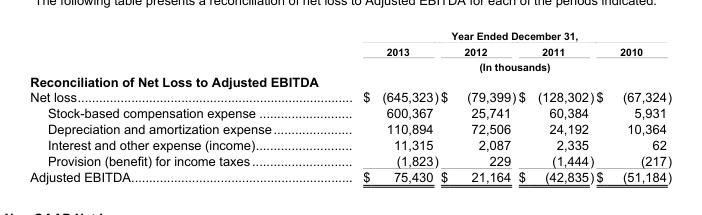table: (29, 29, 671, 183)
table column: (29, 29, 316, 183), (316, 29, 438, 183), (438, 29, 516, 183), (516, 29, 594, 183), (594, 29, 671, 183)
table column header: (29, 29, 671, 73)
table projected row header: (29, 73, 671, 89)
table row: (29, 73, 671, 89), (29, 104, 671, 120), (29, 120, 671, 136), (29, 136, 671, 152), (29, 152, 671, 168), (29, 43, 671, 58), (29, 58, 671, 73), (29, 89, 671, 104), (29, 168, 671, 183), (29, 29, 671, 43)
table spanning cell: (316, 58, 671, 73), (316, 29, 671, 43)
